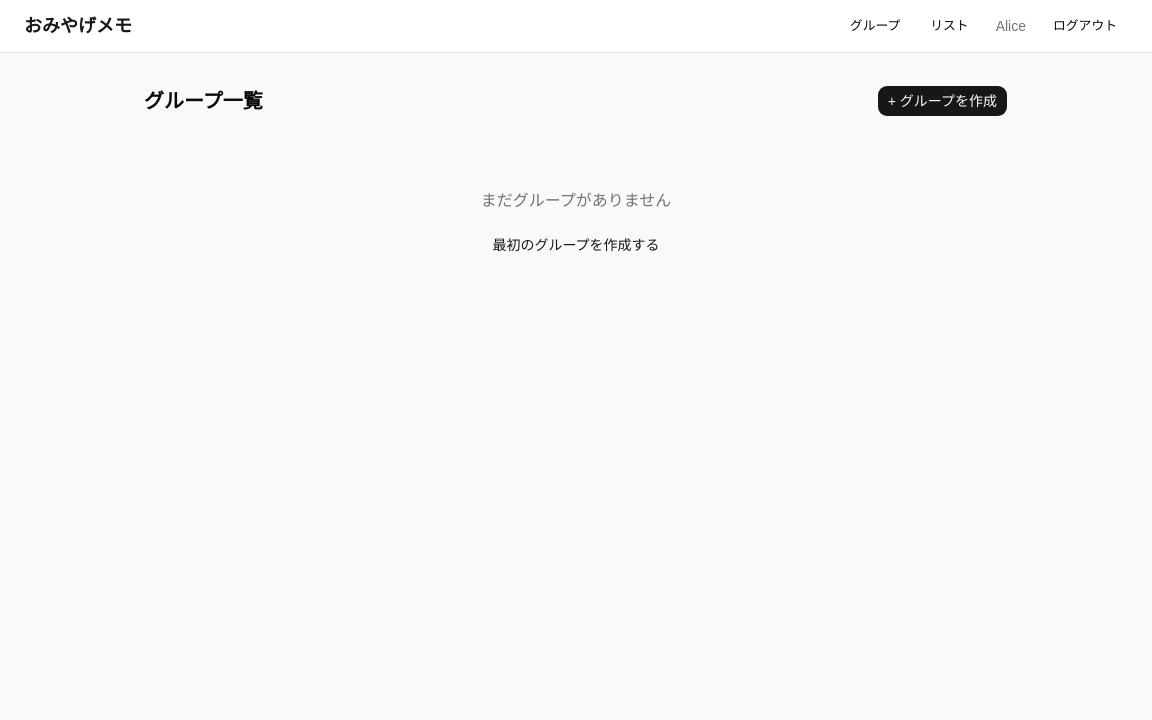
Test: GroupListPage › グループを作成するとリストに追加される
Expected: the text "まだグループがありません" is shown, 481,192 -> 671,209
Click the button "+ グループを作成".
click(942, 101)  # box 877,85 -> 1008,117
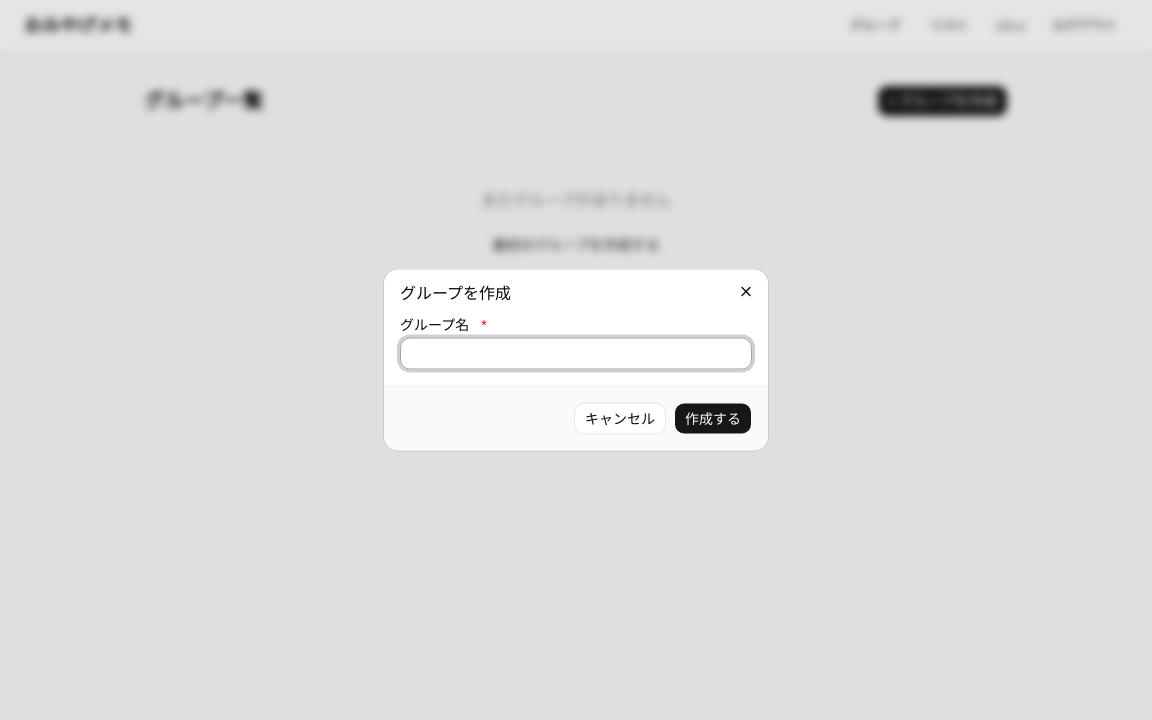
Type "職場" into the field labelled "グループ名 *".
click(576, 354); type("職場")  # box 400,338 -> 752,370
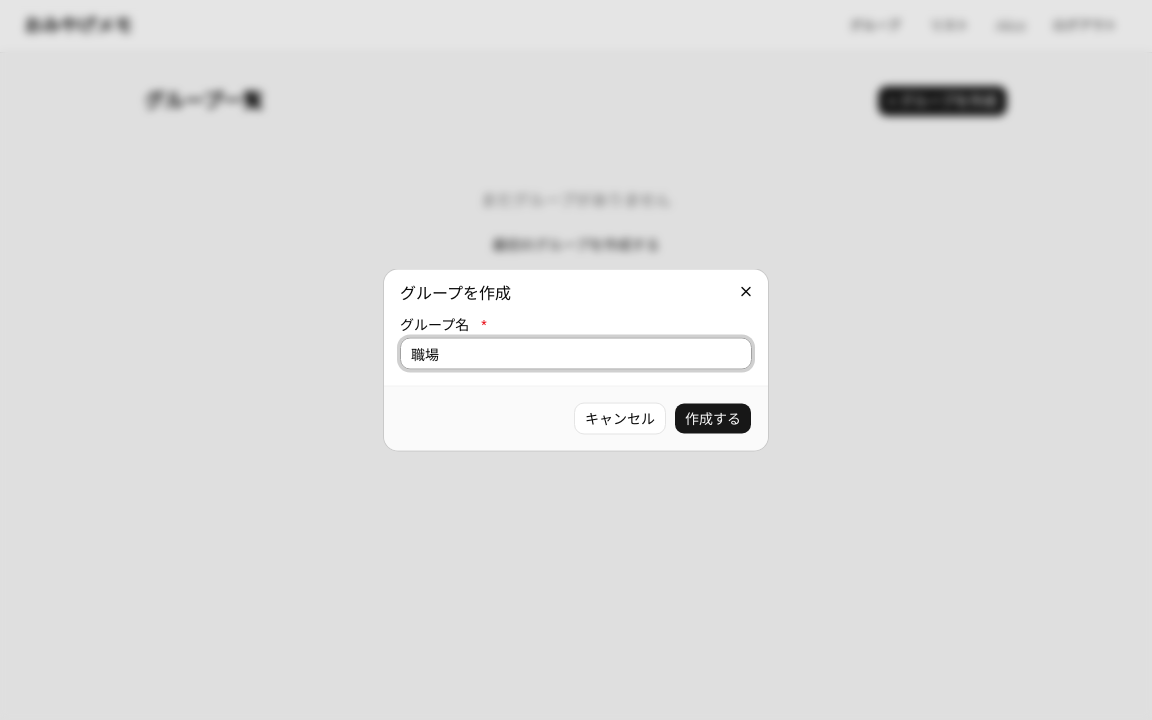
Click the button "作成する".
click(713, 418)  # box 674,402 -> 752,434
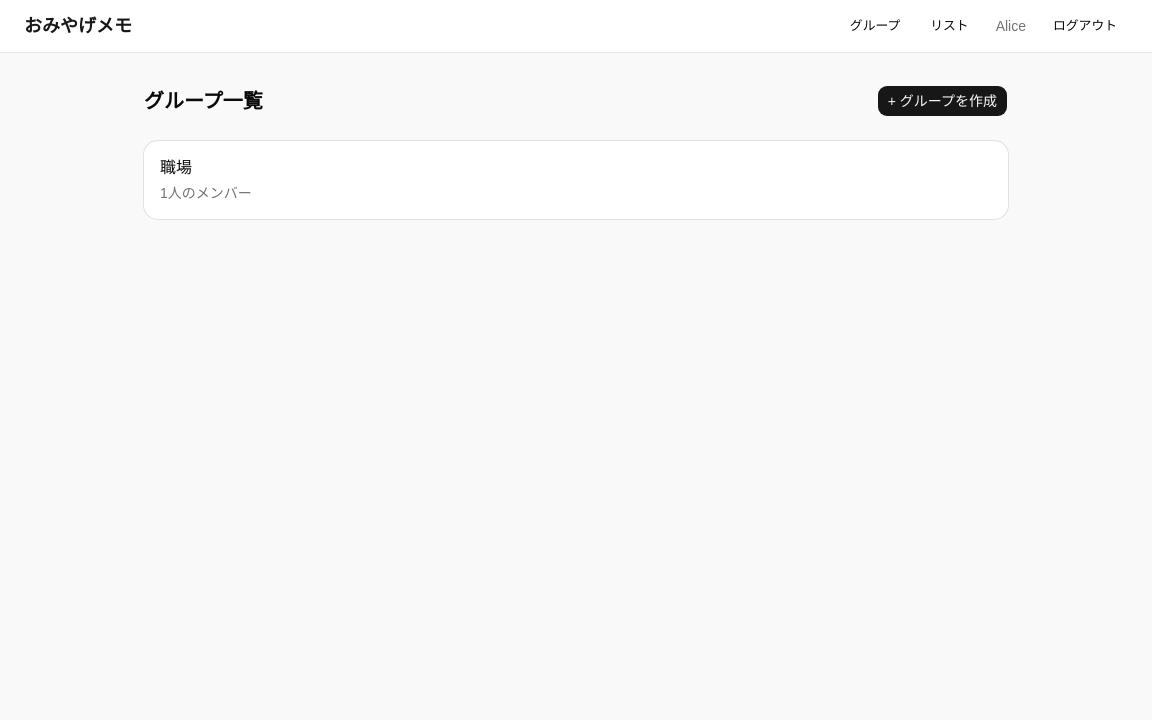
Now the text "職場" is shown, box 160,159 -> 192,176
